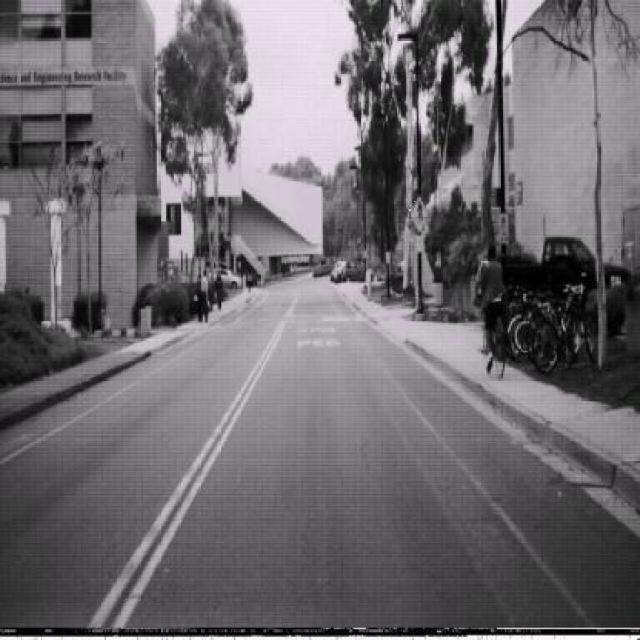pedestrianCrossing: (409, 194, 429, 233)
